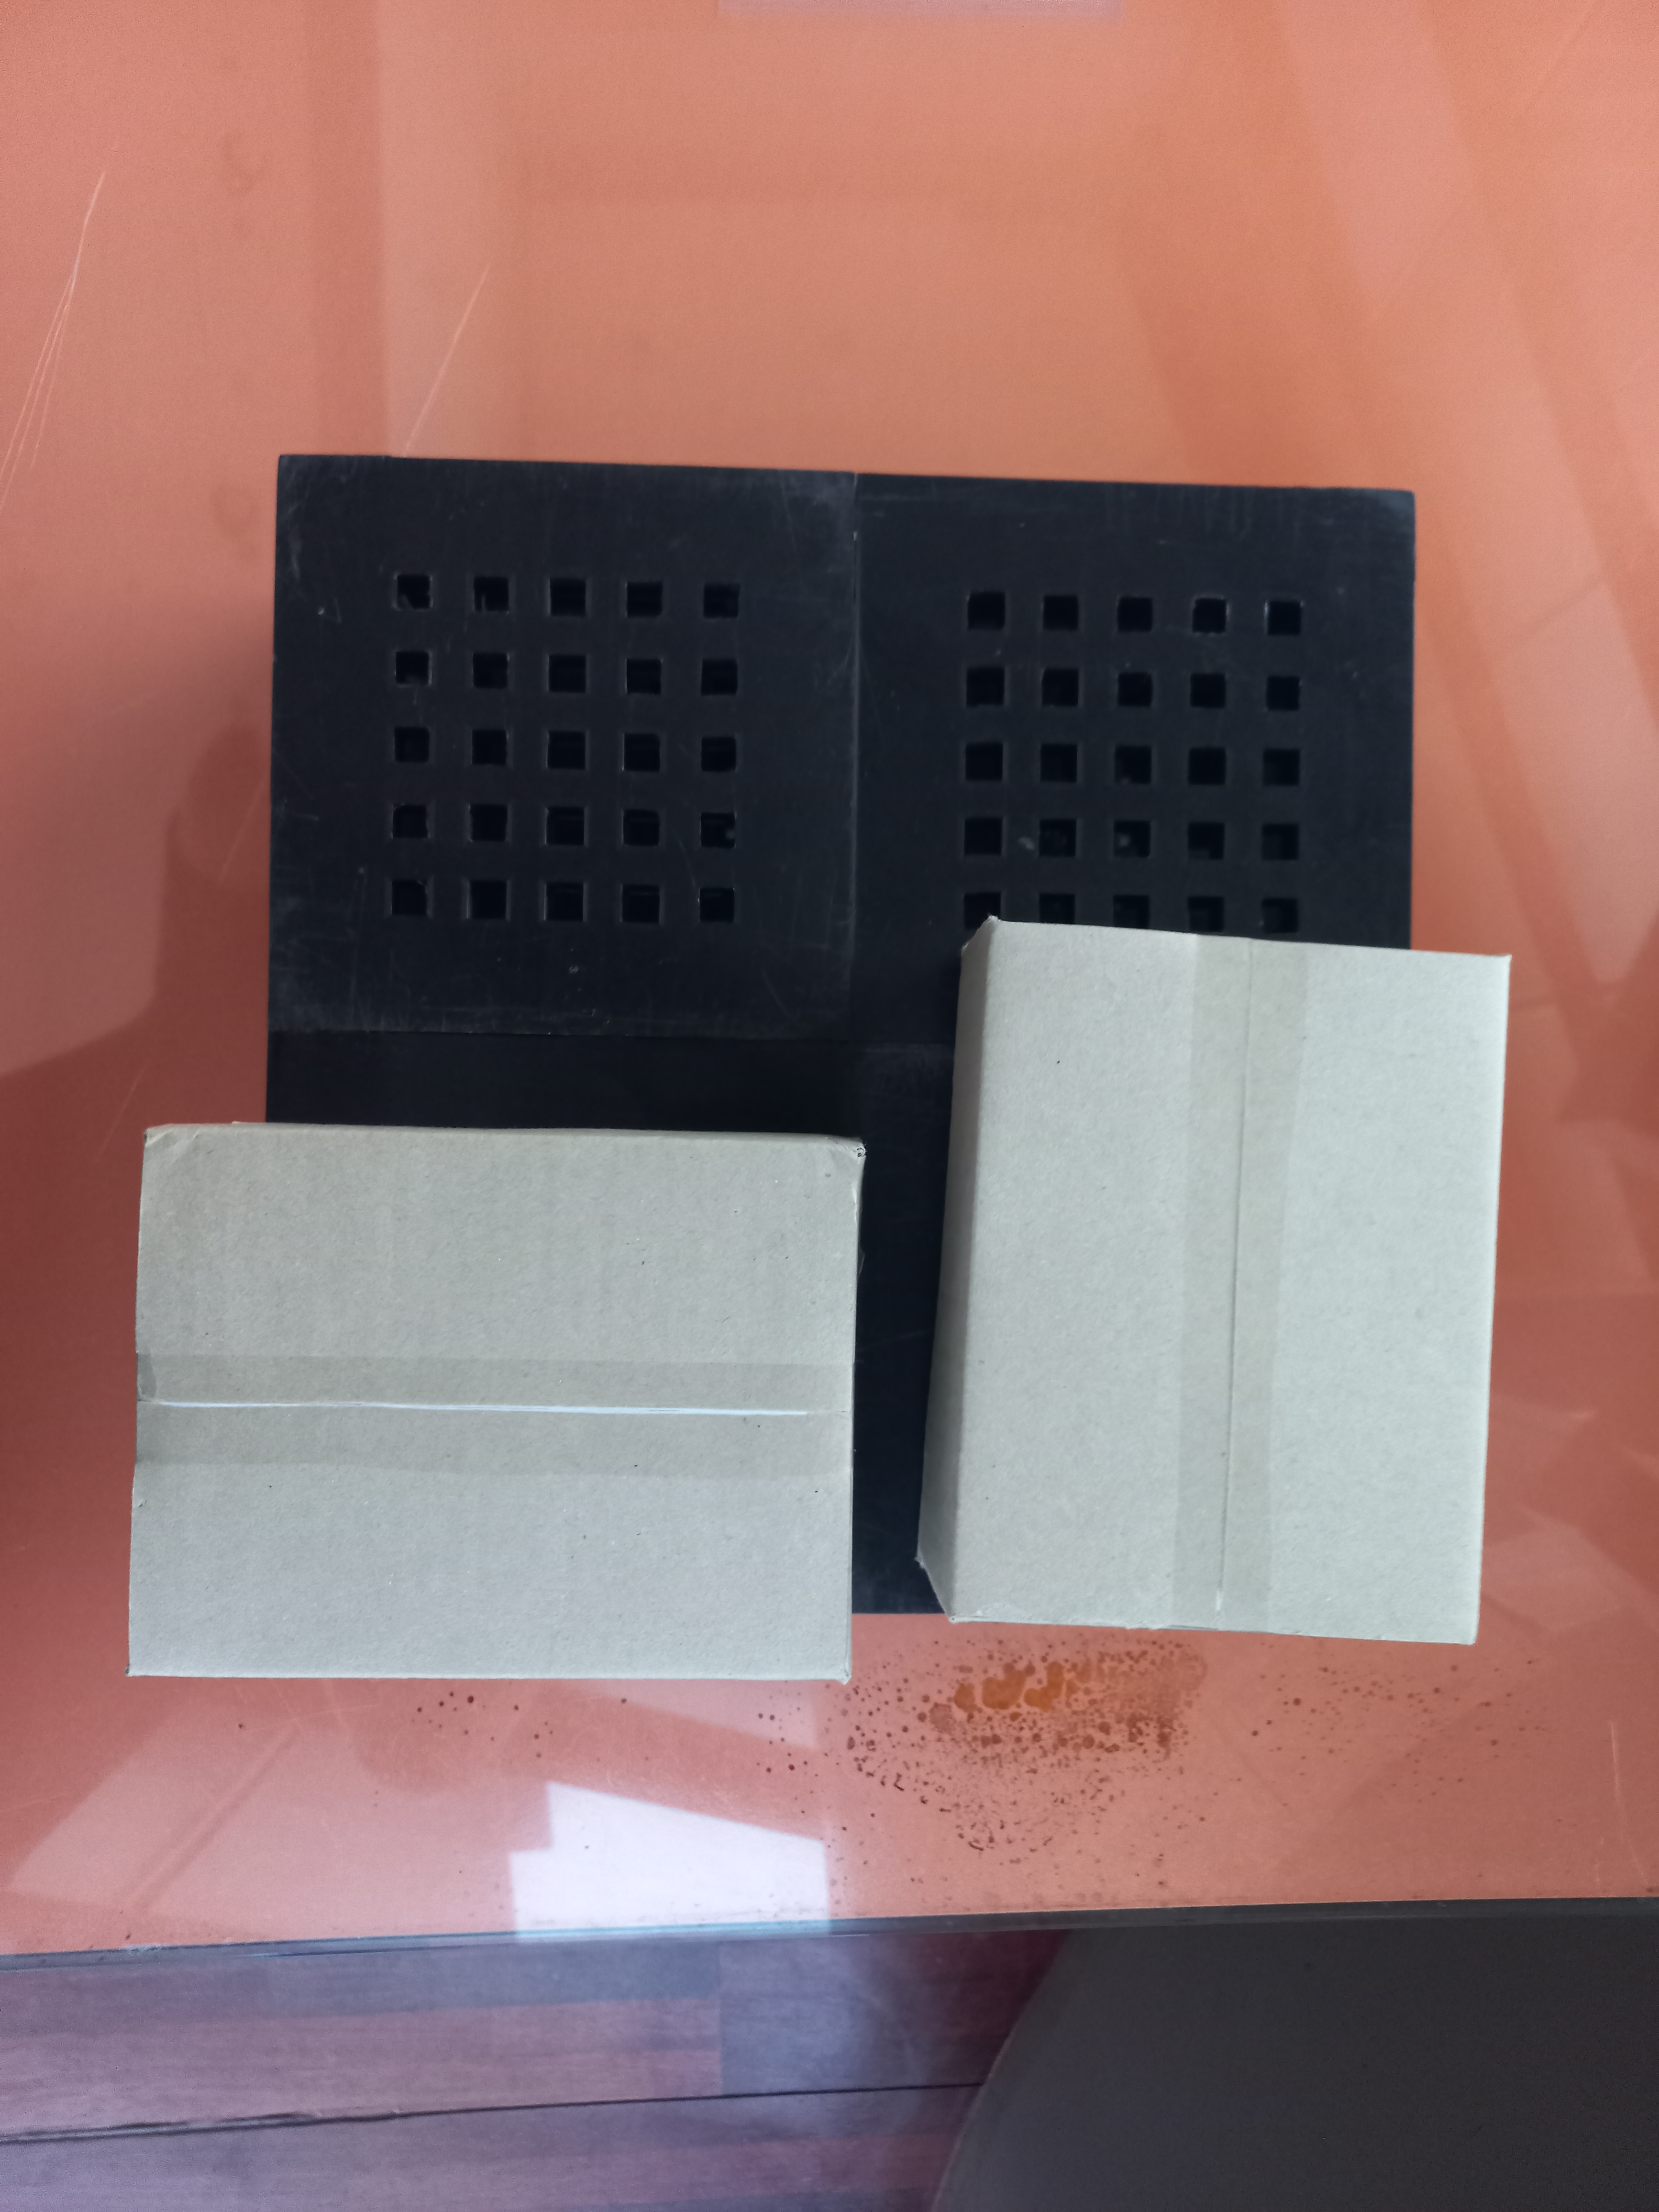box: (924, 911, 1511, 1641), (125, 1118, 857, 1686)
